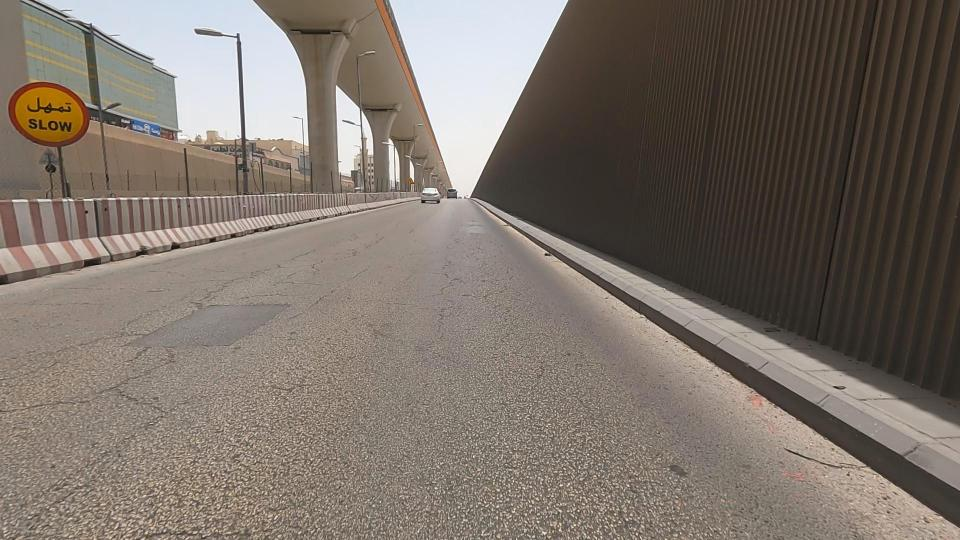CONSTRUCTION_ROAD: (0, 120, 245, 295), (139, 135, 332, 261), (263, 152, 422, 242)
